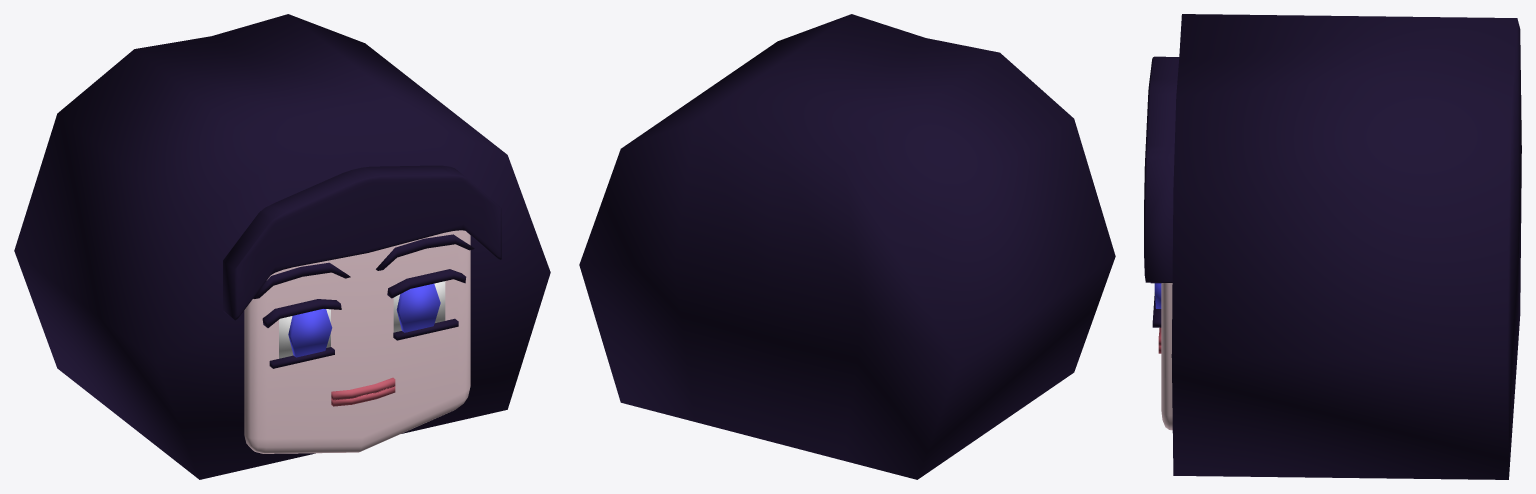
Rendered from Head.glb.
3 renders of one model, left to right at view 1: azimuth 30°, elevation 25°; view 2: azimuth 150°, elevation 25°; view 3: azimuth 270°, elevation 25°, orthographic. The views are drawn at different scales.
Visible parts, largest first — view 1: Head, Face, Bangs; view 2: Head; view 3: Head, Bangs, Face.
Boxes of the visible parts, x1=… form: Head: x1=14, y1=14, x2=550, y2=479; Face: x1=244, y1=230, x2=474, y2=453; Bangs: x1=223, y1=165, x2=501, y2=320; Head: x1=579, y1=14, x2=1115, y2=479; Head: x1=1171, y1=14, x2=1521, y2=479; Bangs: x1=1144, y1=56, x2=1179, y2=282; Face: x1=1151, y1=282, x2=1172, y2=430.
Bounding box in the file's own units: 1.58 × 1.18 × 1.17.
